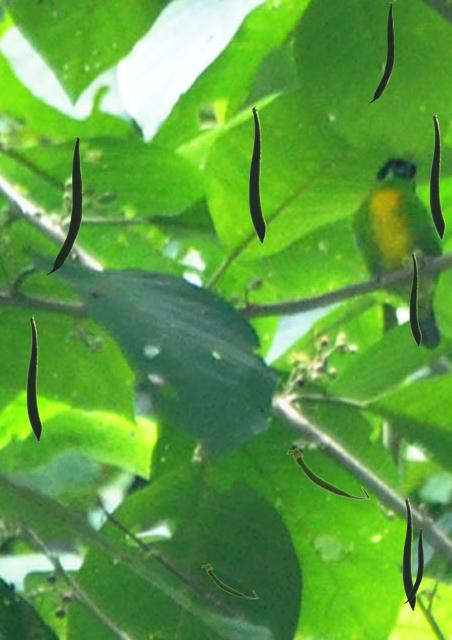french_bean: (44, 136, 81, 274), (286, 447, 369, 499), (368, 2, 393, 102), (248, 105, 265, 243), (201, 563, 257, 598), (26, 315, 41, 441), (429, 113, 444, 239), (402, 497, 415, 610), (404, 528, 422, 602), (409, 252, 420, 346)
